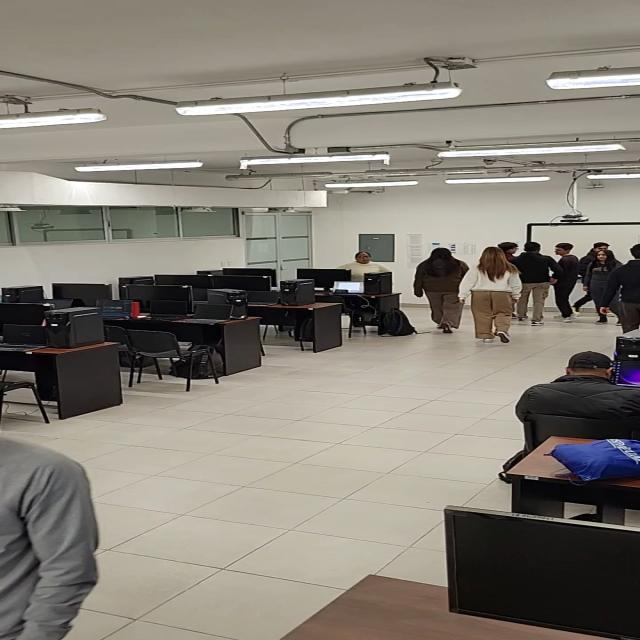Persona: (458, 246, 522, 343), (413, 247, 470, 334), (511, 241, 562, 326), (582, 246, 630, 325), (598, 243, 640, 332), (579, 242, 617, 323), (550, 243, 584, 323), (495, 242, 519, 262)
